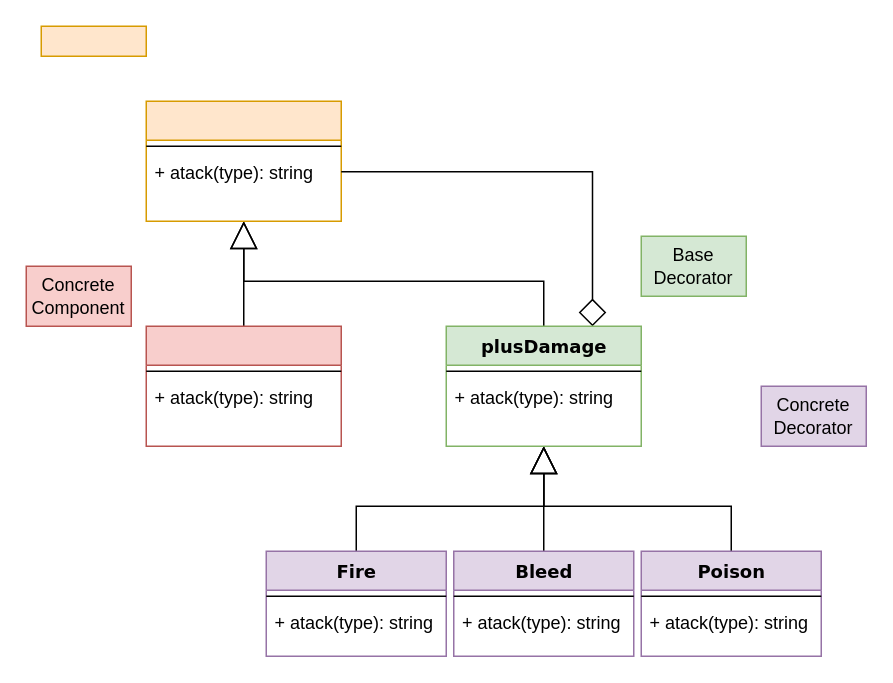
Some shapes in this 893 by 683 pixel diagram are drawn without their labels. Each missing label, with the box of its shape:
Component: (40, 25, 146, 56)
Sword: (145, 325, 341, 446)
Weapon<interface>: (145, 100, 341, 221)
